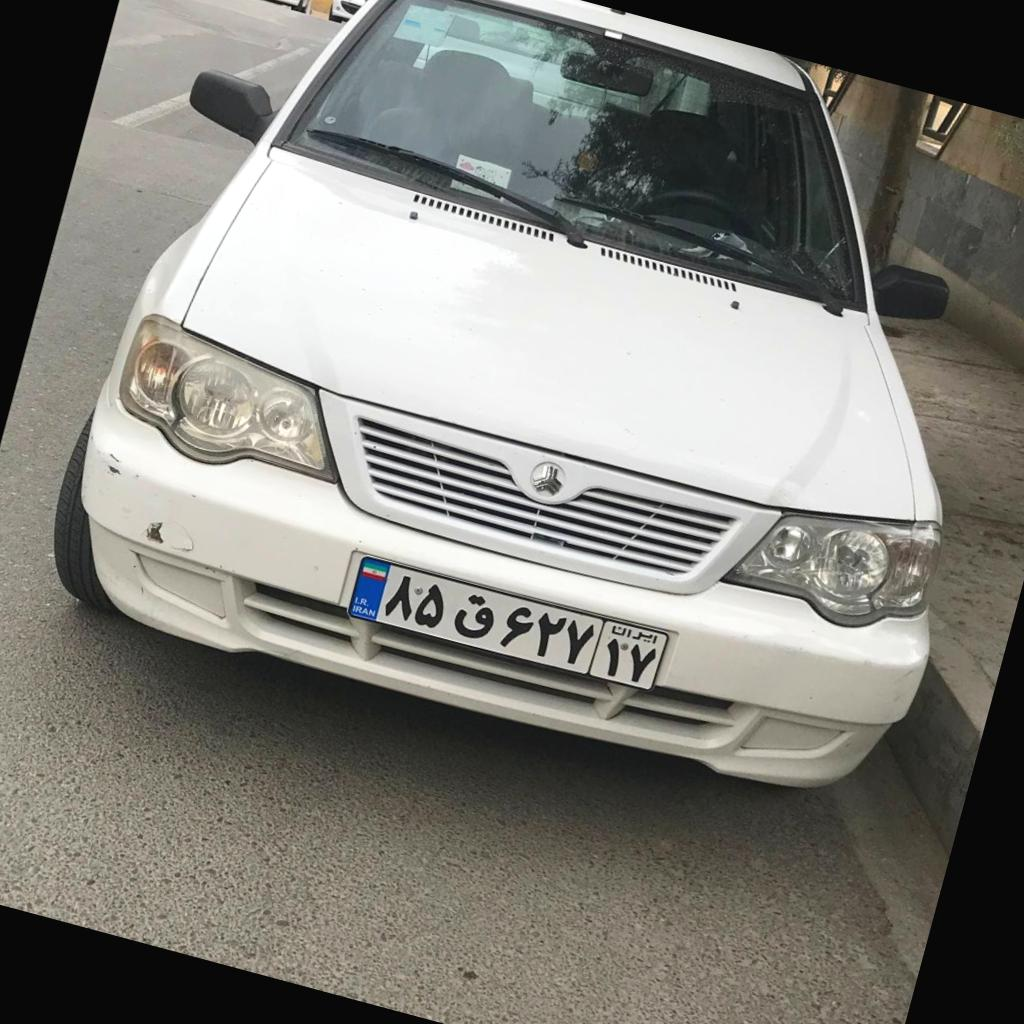Plates: (348, 557, 668, 690)
